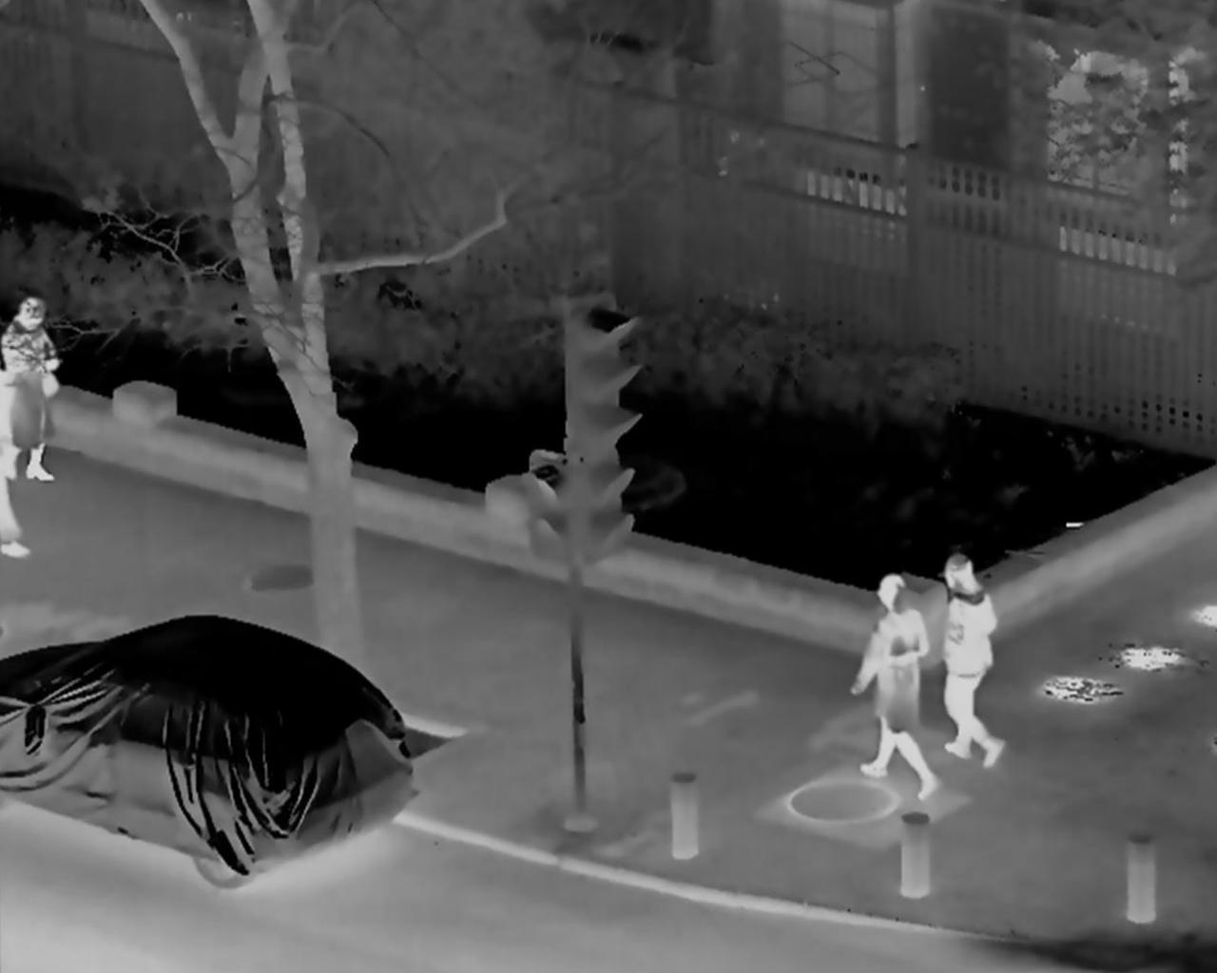person: (848, 576, 941, 798), (931, 554, 1005, 766), (2, 301, 68, 486)
